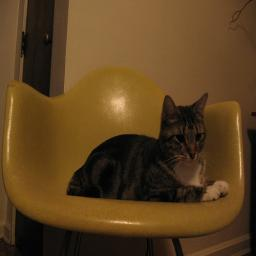catnose: (188, 149, 196, 160)
